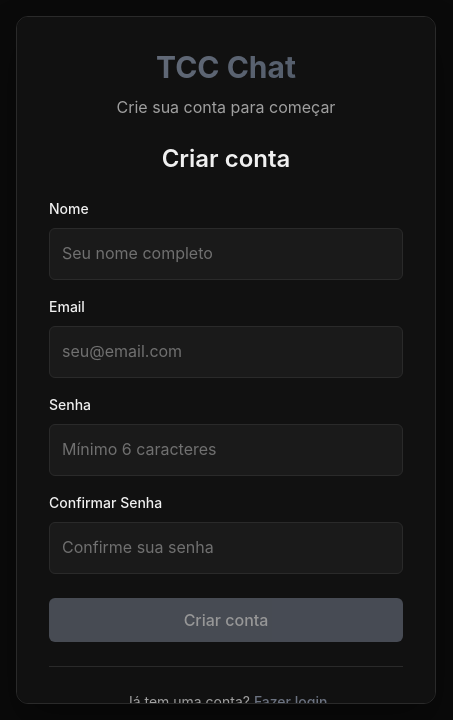
Test: Register Form Password Validation › should show real-time validation feedback
Type "senha123" into the password field labelled "Senha" at [226, 451], box [49, 425, 403, 477]
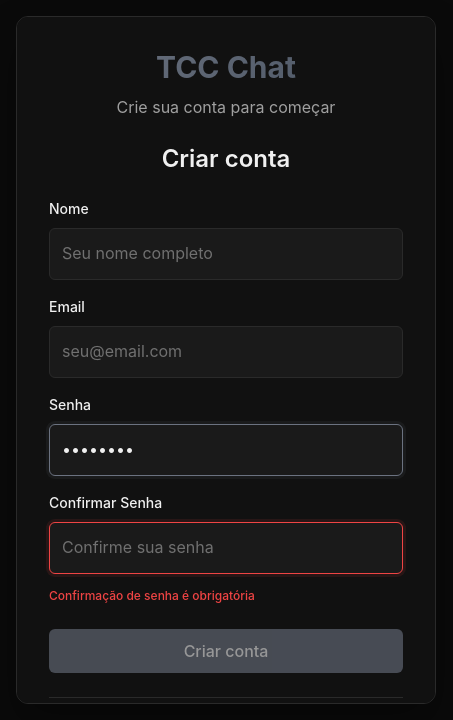
Type "senha" into the password field with id "confirmPassword" at [226, 548], box [49, 522, 403, 574]
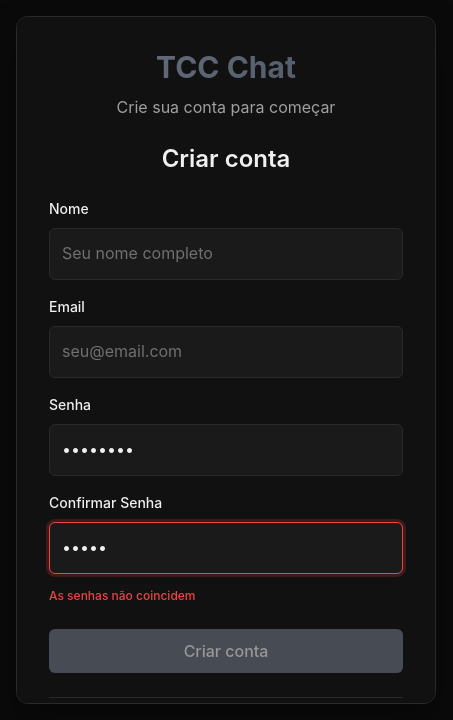
Expected: the text "As senhas não coincidem" is shown, [49, 588, 196, 603]
Type "senha123" into the password field with id "confirmPassword" at [226, 548], box [49, 522, 403, 574]
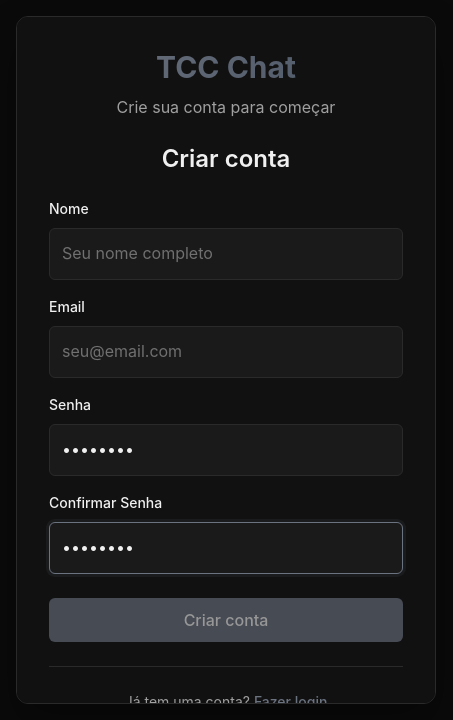
Expected: the text "As senhas não coincidem" is gone
